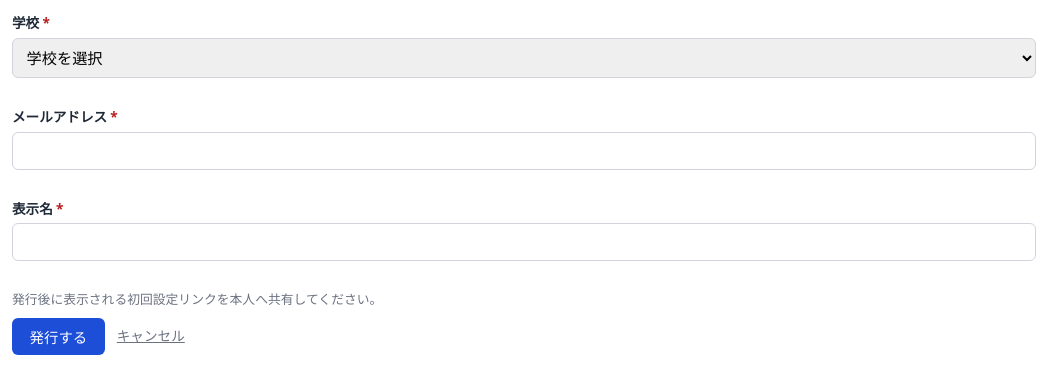
Scenario: SystemStaffCreateForm (#508 system_admin 発行フォーム) › 送信で {email, displayName, schoolId} を渡し (role は送らない)、成功で初回設定リンクを表示する
Step 1. Select "岐阜県 / 岐南工業高校" in the dropdown labelled "学校" → [524, 58], box [12,38,1036,78]
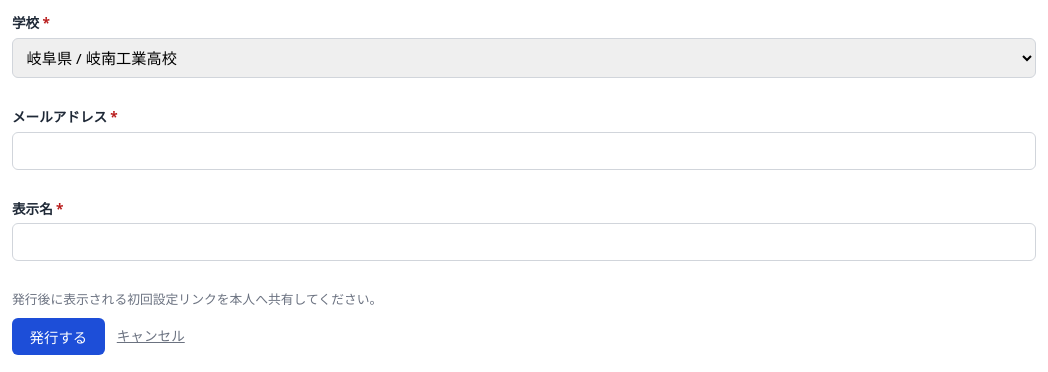
Step 2. Type "admin@example.com" into the field labelled "メールアドレス" → [524, 150], box [12,132,1036,170]
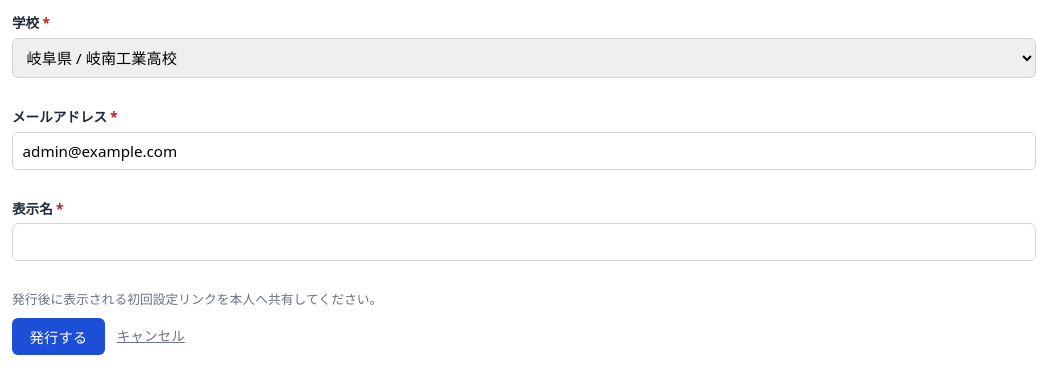
Step 3. Type "学校管理者A" into the field labelled "表示名" → [524, 242], box [12,223,1036,261]
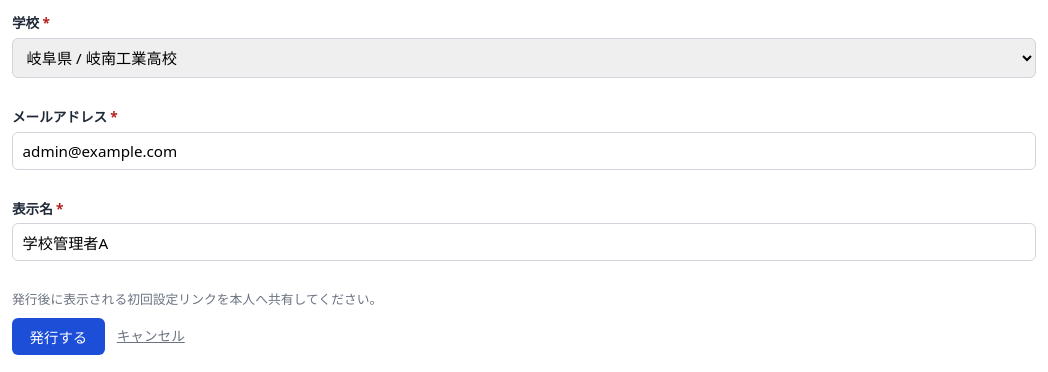
Step 4. Click the button "発行する" → [58, 336], box [12,318,105,355]
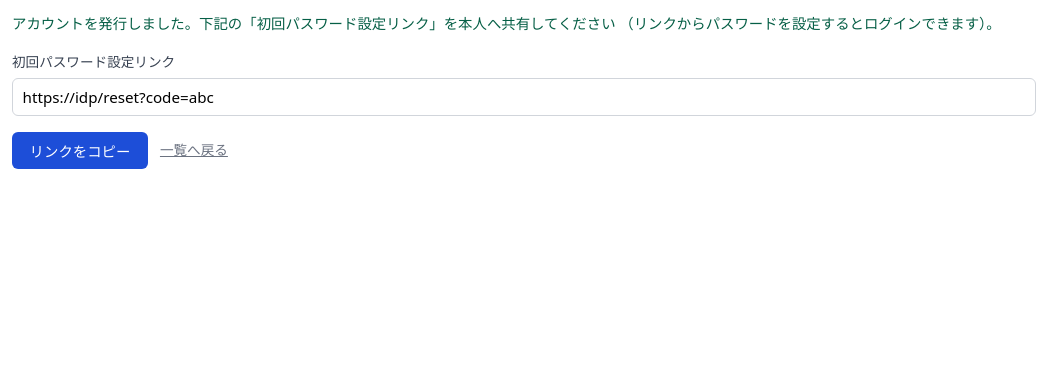
Check: the field labelled "初回パスワード設定リンク" holds "https://idp/reset?code=abc", box [12,78,1036,116]
Check: the button "発行する" is gone
